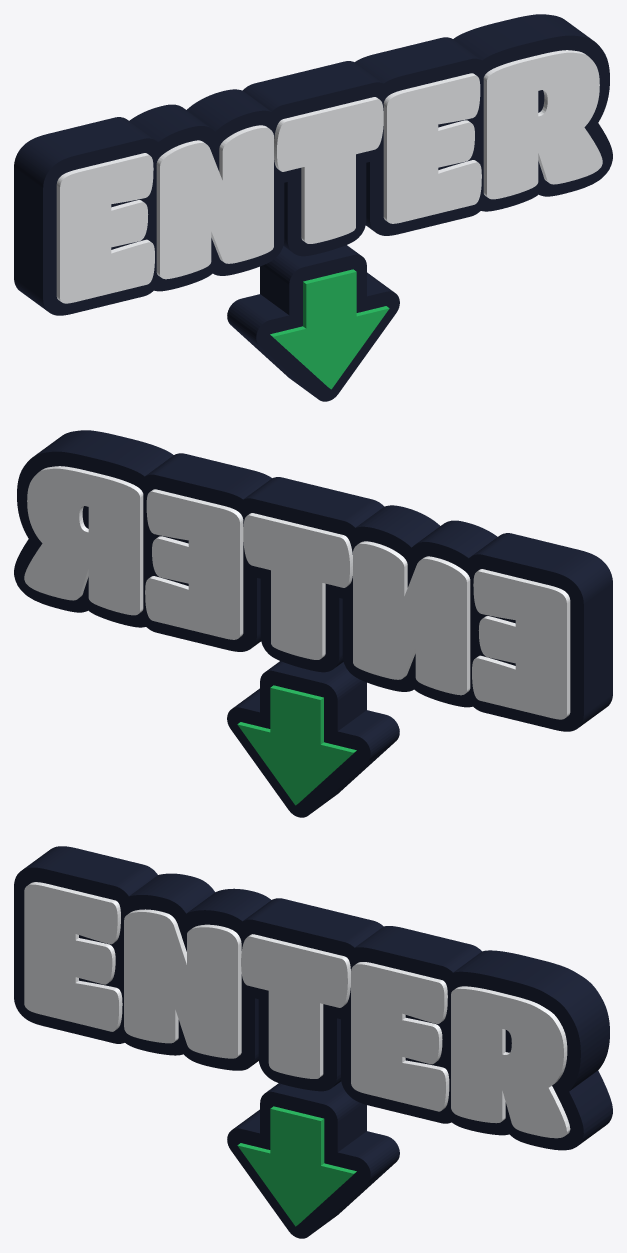
The model's file is Panneau_Enter.glb.
The picture shows the model from 3 angles, top to bottom: view 1: azimuth 30°, elevation 25°; view 2: azimuth 150°, elevation 25°; view 3: azimuth 330°, elevation 25°; orthographic projection.
Parts seen in each view (by area): view 1: Panneau_Enter; view 2: Panneau_Enter; view 3: Panneau_Enter.
Boxes of the visible parts, left/top/right/bottom form: Panneau_Enter: left=14, top=14, right=612, bottom=401; Panneau_Enter: left=14, top=430, right=612, bottom=817; Panneau_Enter: left=14, top=846, right=612, bottom=1238.
Bounding box in the file's own units: 2.94 × 1.52 × 0.32.
